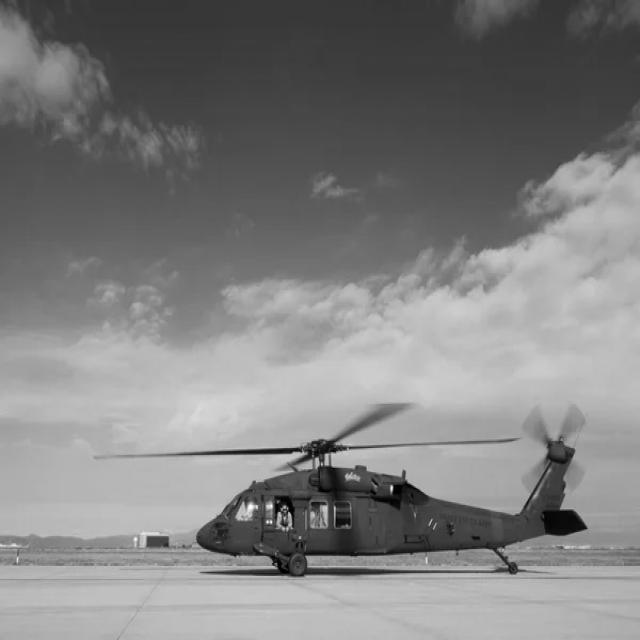Helicopter: (95, 404, 588, 577)
